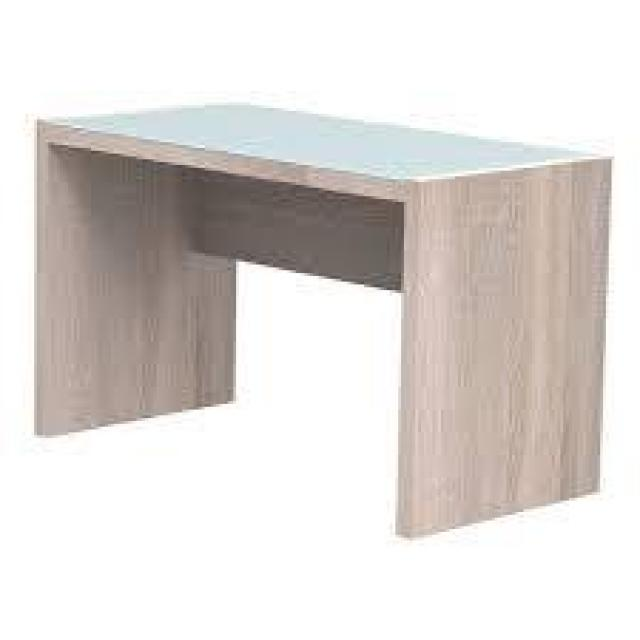table: (23, 58, 617, 556)
